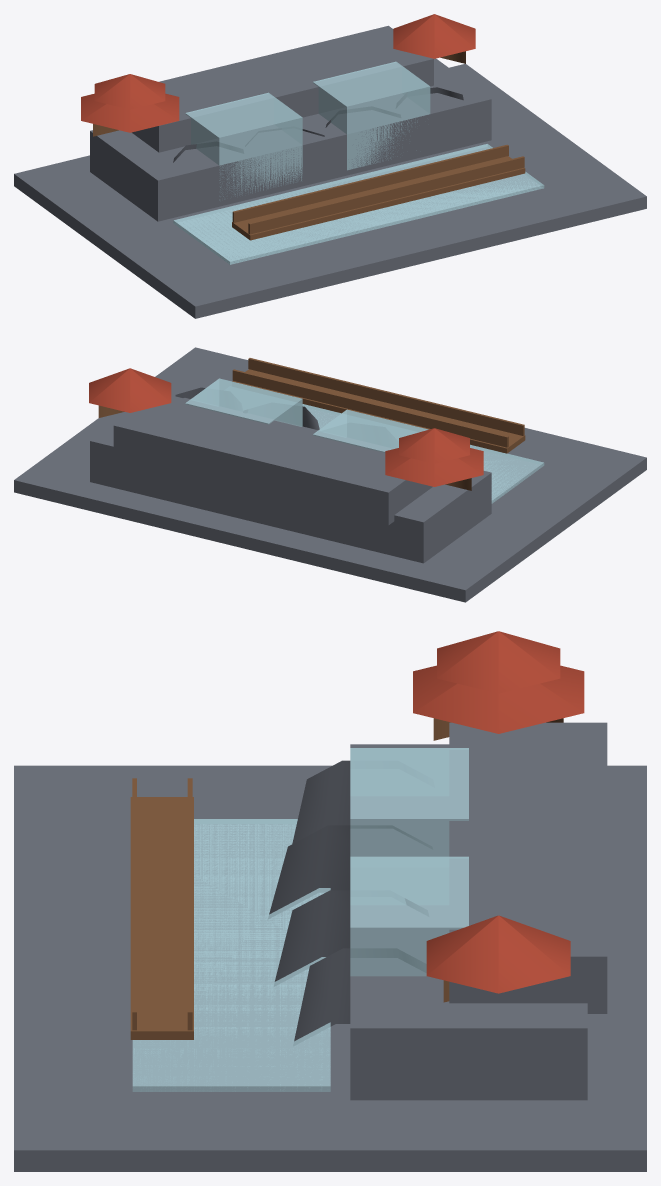
Rendered from lm_27_thac_cam_ly_waterfall_pavilion.glb.
The picture shows the model from 3 angles, top to bottom: view 1: azimuth 30°, elevation 25°; view 2: azimuth 150°, elevation 25°; view 3: azimuth 270°, elevation 25°; orthographic projection. The views are drawn at different scales.
Visible parts, largest first — view 1: CamLy_Granite_Ledges, CamLy_Cascade_Chutes, Faux_Log_Bridge_And_Pavilions, Viewing_Gazebo_Roofs; view 2: CamLy_Granite_Ledges, Faux_Log_Bridge_And_Pavilions, CamLy_Cascade_Chutes, Viewing_Gazebo_Roofs; view 3: CamLy_Granite_Ledges, CamLy_Cascade_Chutes, Viewing_Gazebo_Roofs, Faux_Log_Bridge_And_Pavilions.
Boxes of the visible parts, <box> form: CamLy_Granite_Ledges: <box>14,25,646,318</box>; CamLy_Cascade_Chutes: <box>173,61,544,264</box>; Faux_Log_Bridge_And_Pavilions: <box>93,51,525,240</box>; Viewing_Gazebo_Roofs: <box>81,14,475,132</box>; CamLy_Granite_Ledges: <box>14,347,646,602</box>; Faux_Log_Bridge_And_Pavilions: <box>98,358,525,490</box>; CamLy_Cascade_Chutes: <box>185,378,544,503</box>; Viewing_Gazebo_Roofs: <box>89,368,483,486</box>; CamLy_Granite_Ledges: <box>14,722,646,1171</box>; CamLy_Cascade_Chutes: <box>132,748,468,1091</box>; Viewing_Gazebo_Roofs: <box>413,631,584,993</box>; Faux_Log_Bridge_And_Pavilions: <box>130,718,563,1039</box>.
Size of the model in its own units: 46 by 12.2 by 32.
